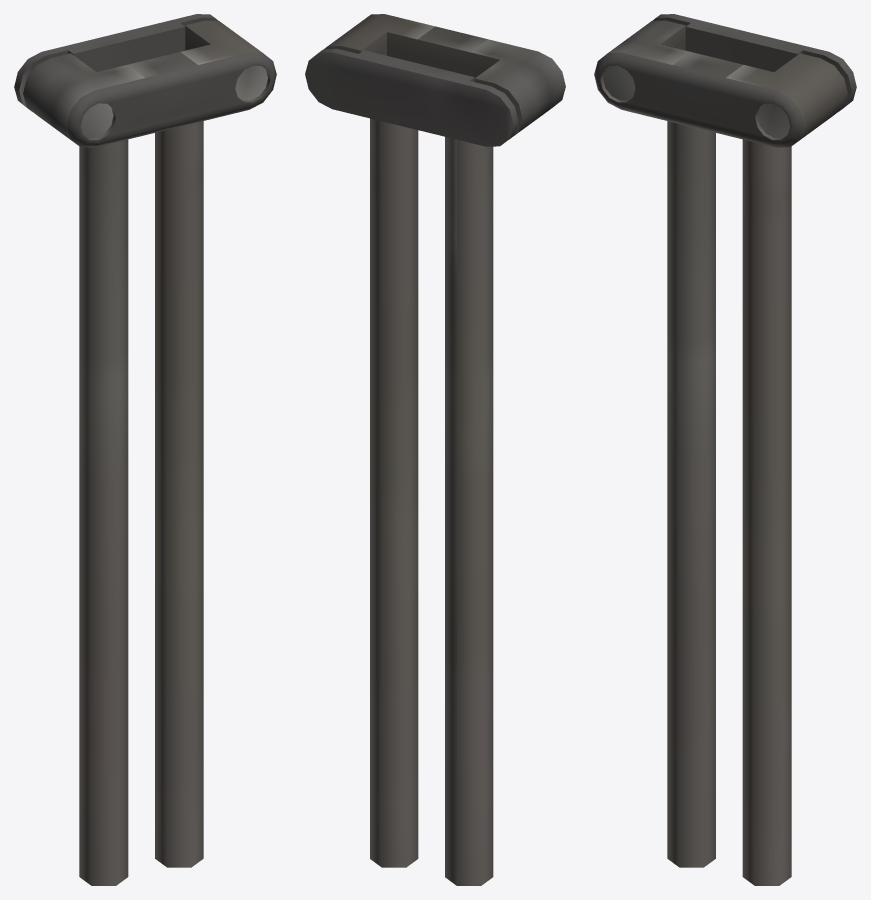
File: wall-cable--6.gltf
3 views of the same model, side by side, from view 1: azimuth 30°, elevation 25°; view 2: azimuth 150°, elevation 25°; view 3: azimuth 330°, elevation 25° (orthographic).
Parts seen in each view (by area): view 1: cable_double; view 2: cable_double; view 3: cable_double.
Boxes of the visible parts, left/top/right/bottom form: cable_double: left=14, top=14, right=276, bottom=885; cable_double: left=305, top=14, right=565, bottom=885; cable_double: left=594, top=14, right=856, bottom=885.
Bounding box in the file's own units: 0.0556 × 0.2073 × 0.0259.
1 material, 1 textured.
